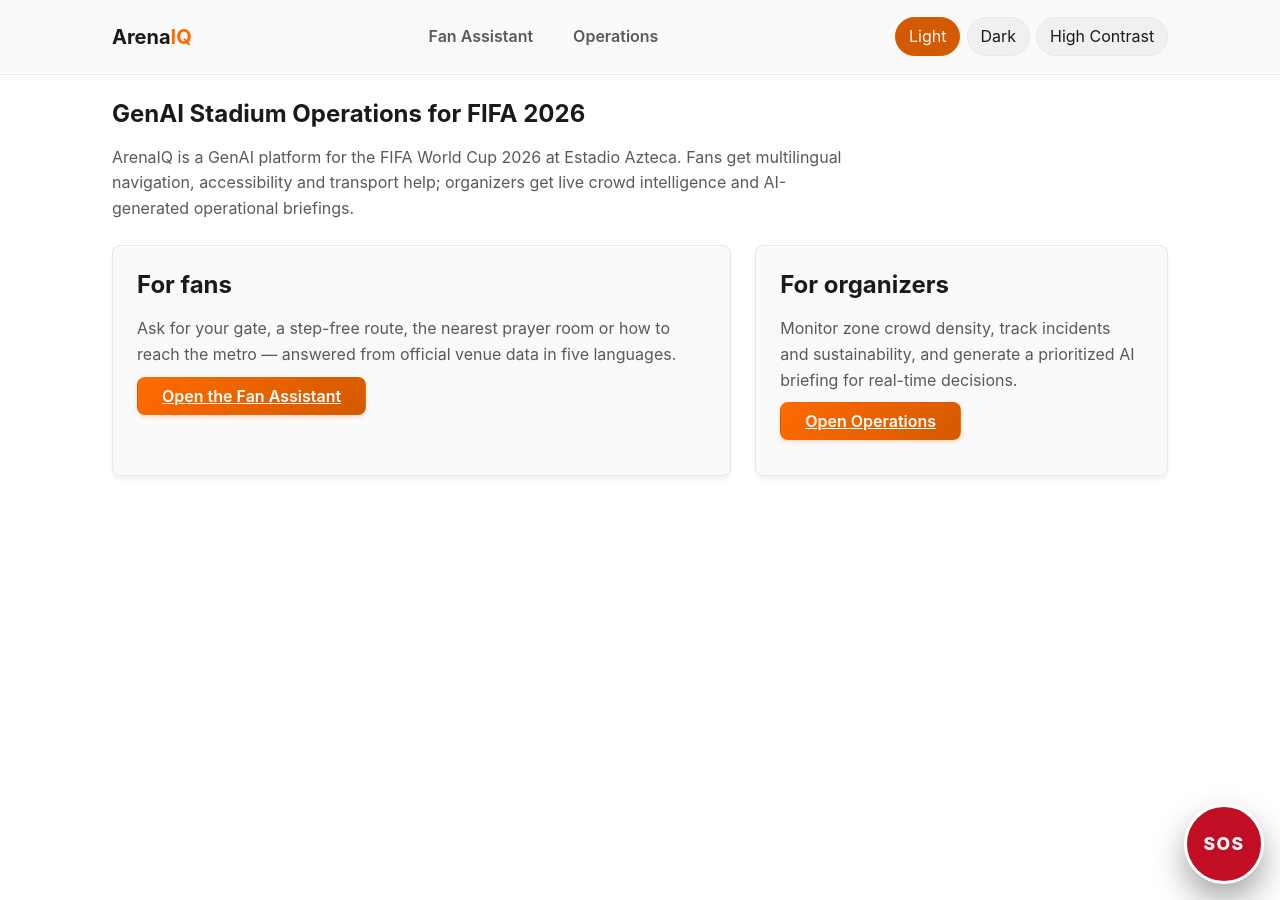
Test: App routing › lazy-loads the operations route on navigation
Click the link "Operations" at (616, 36), box x1=573 y1=26 x2=658 y2=46
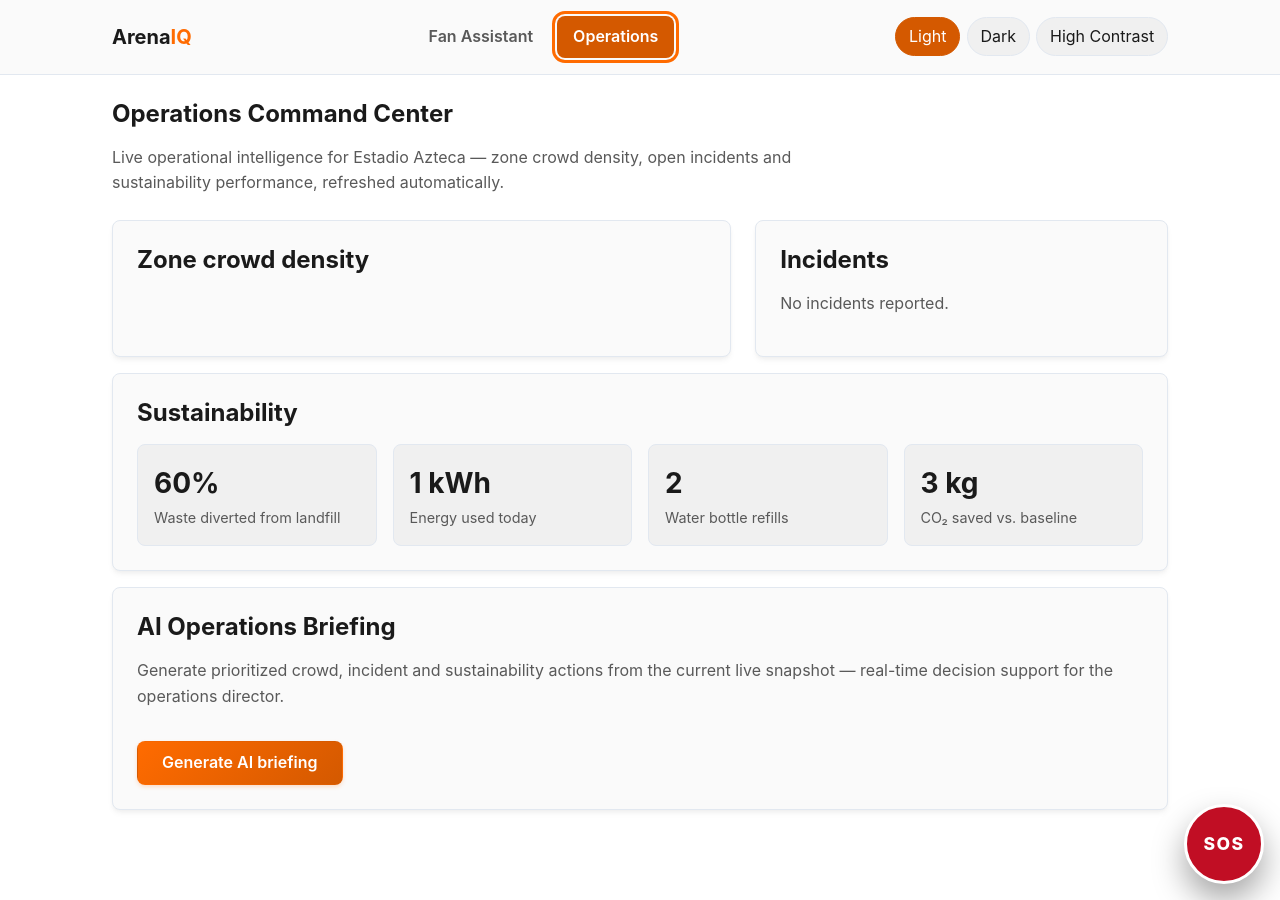
Expected: the heading "Operations Command Center" is shown, x1=112 y1=99 x2=453 y2=128
